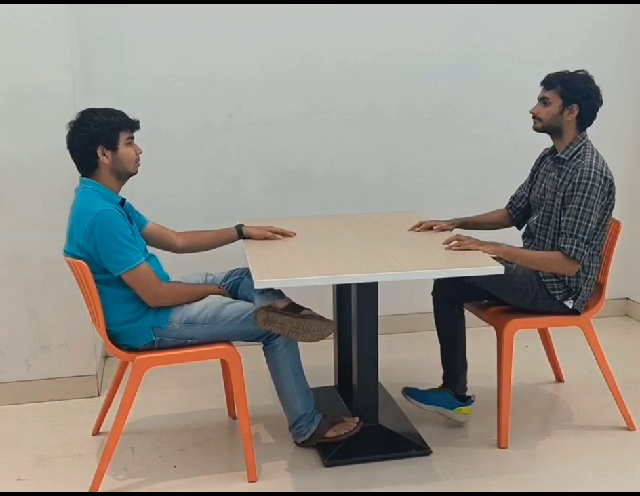person: (63, 105, 148, 188), (526, 68, 605, 143)
